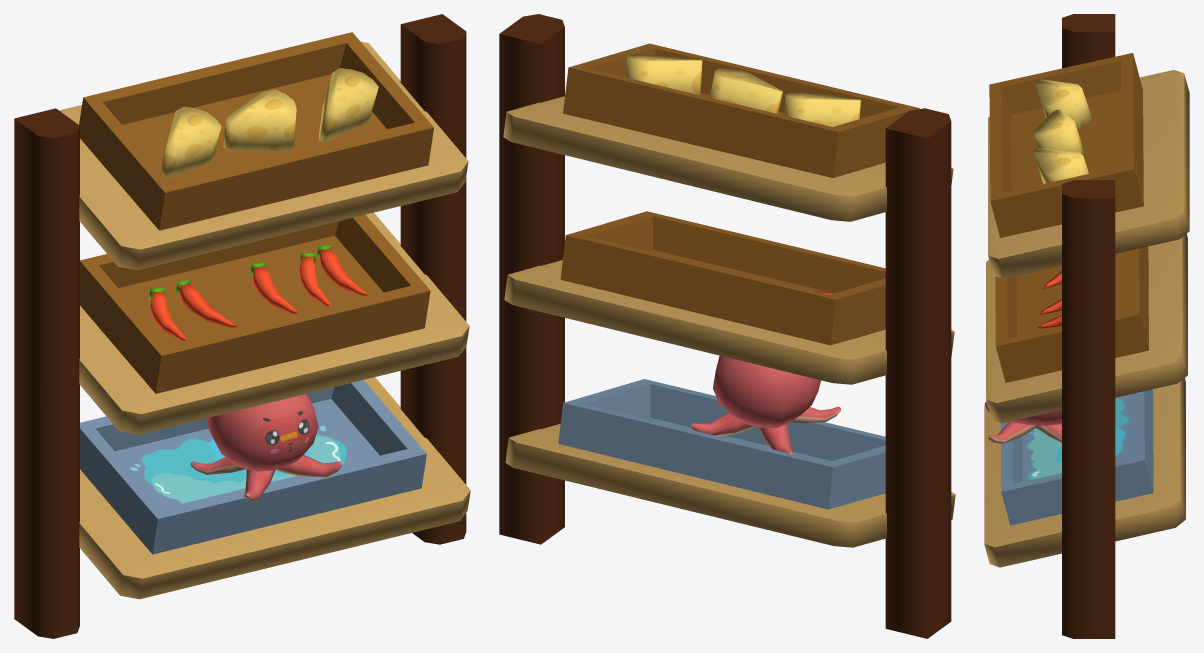
The model's file is storage__chili_cheese_octopus.fbx.
The picture shows the model from 3 angles, left to right: view 1: azimuth 30°, elevation 25°; view 2: azimuth 150°, elevation 25°; view 3: azimuth 270°, elevation 25°; orthographic projection. The views are drawn at different scales.
Visible parts, largest first — view 1: Cube.059, cheese.002, octopus, Chilli.001; view 2: Cube.059, octopus, cheese.002; view 3: Cube.059, cheese.002, octopus, Chilli.001.
Part boxes in pixels (<box>): Cube.059: <box>14,14,470,638</box>; cheese.002: <box>160,68,378,177</box>; octopus: <box>190,394,341,501</box>; Chilli.001: <box>149,245,367,340</box>; Cube.059: <box>499,14,955,638</box>; octopus: <box>691,355,840,454</box>; cheese.002: <box>625,54,860,126</box>; Cube.059: <box>984,14,1189,638</box>; cheese.002: <box>1033,79,1092,183</box>; octopus: <box>984,401,1061,444</box>; Chilli.001: <box>1037,271,1061,328</box>.
Bounding box in the file's own units: 155 × 173 × 72.94.
